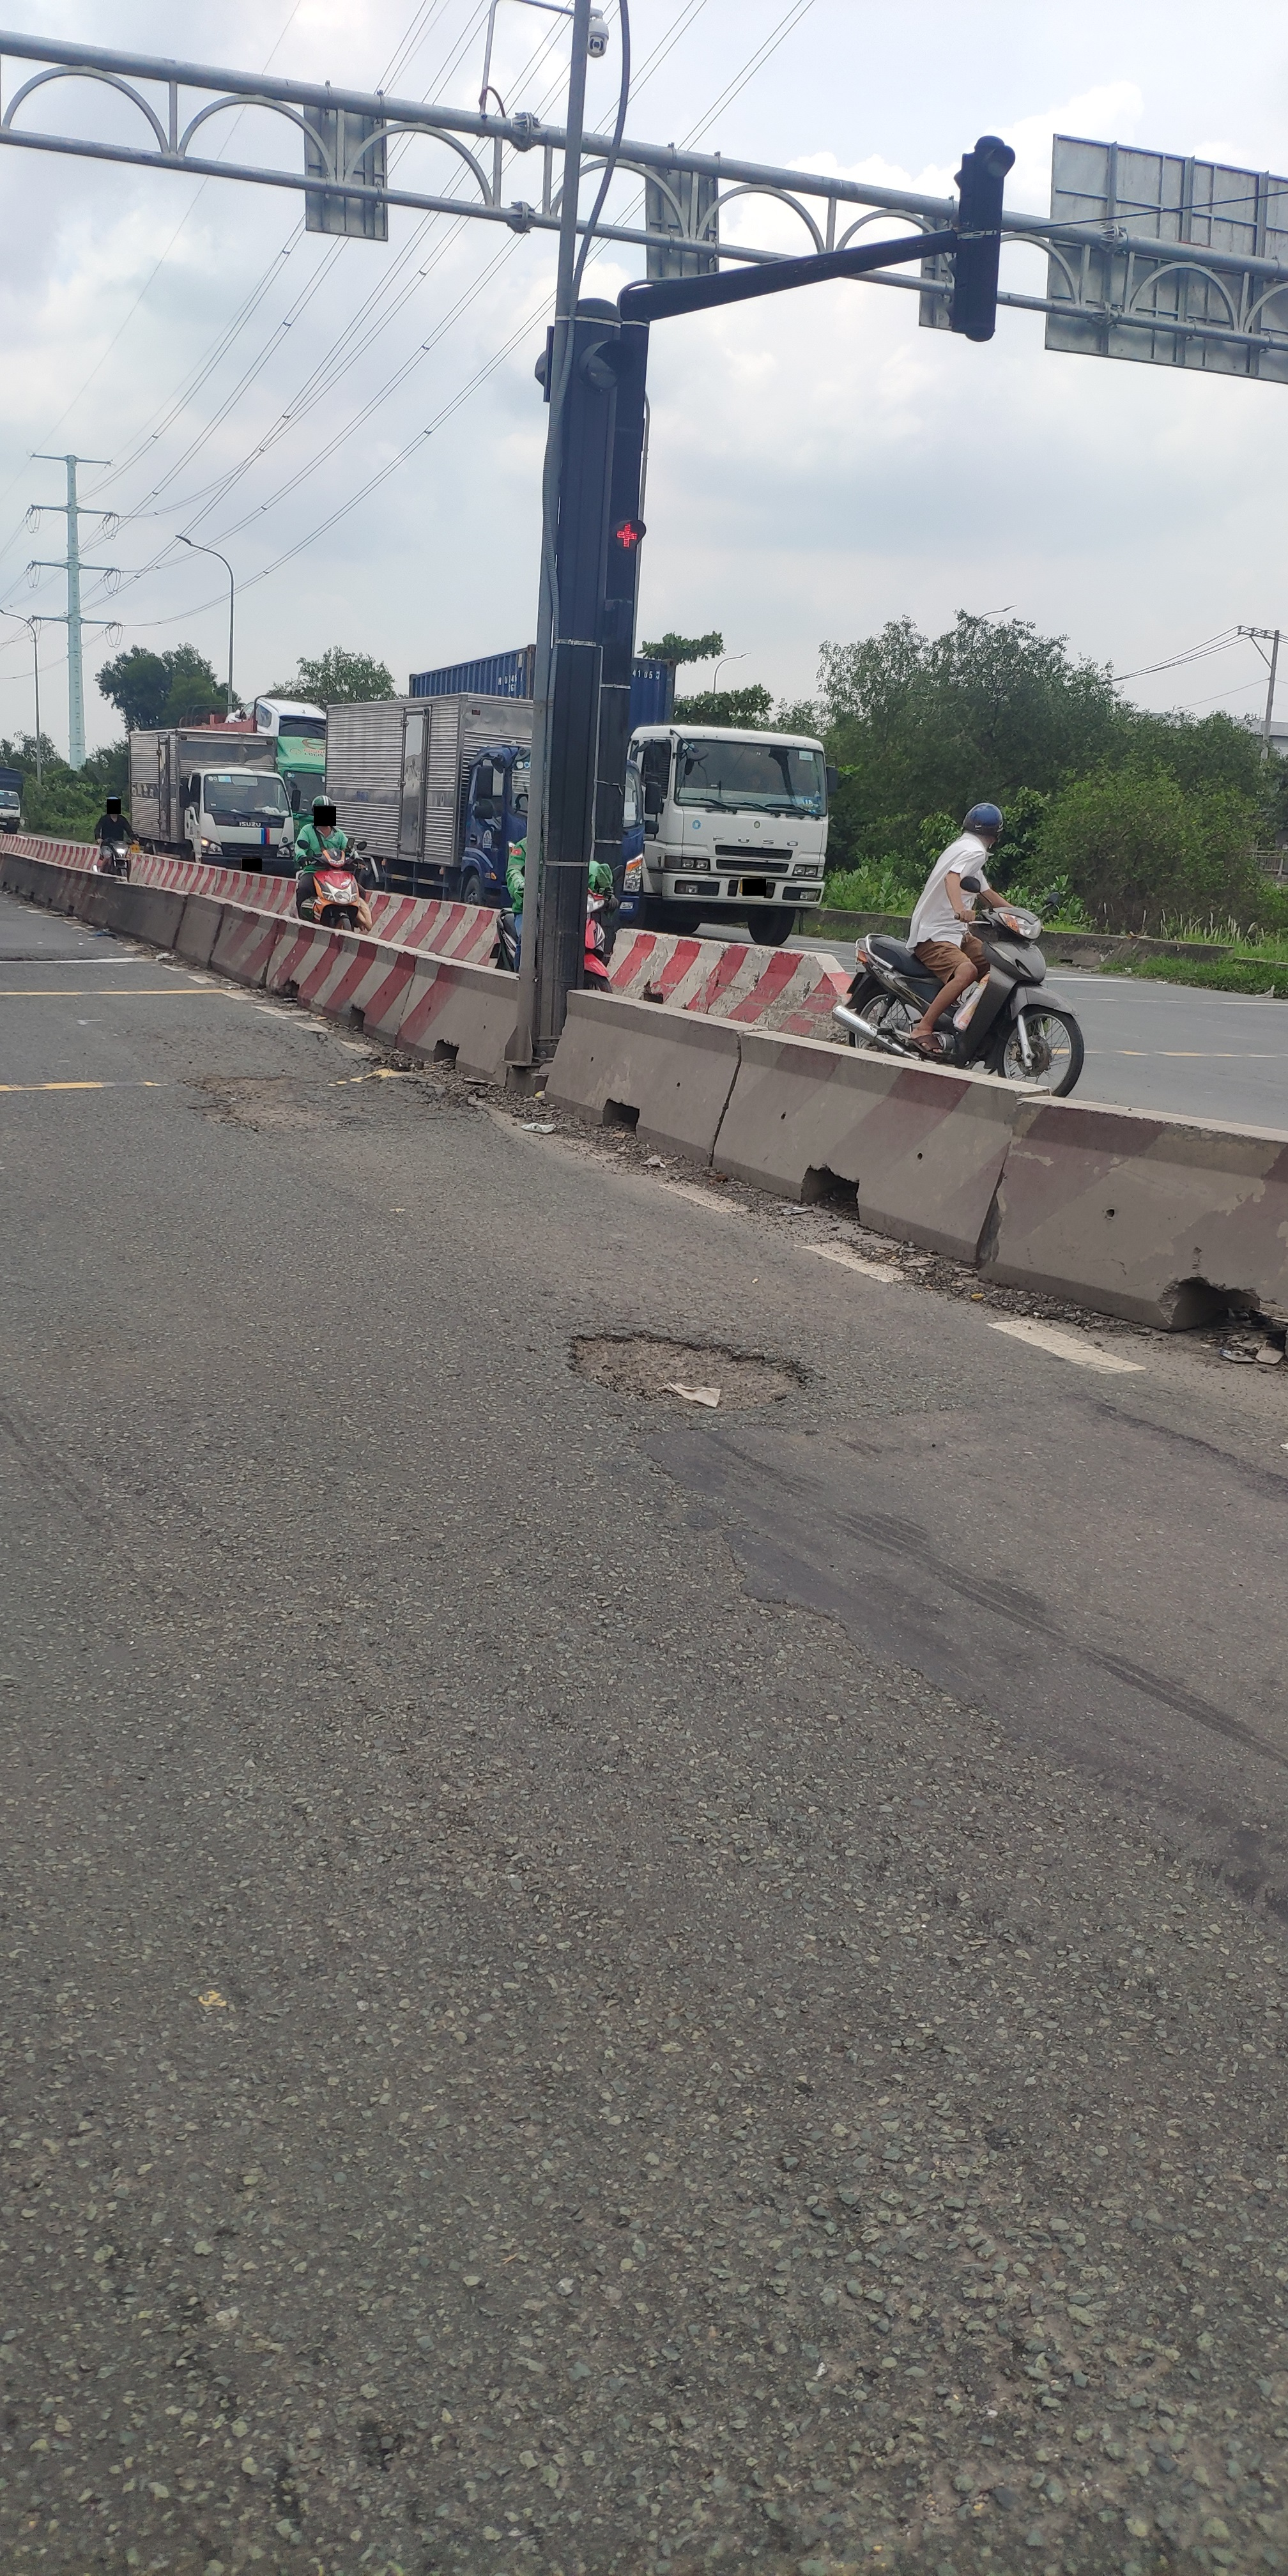hole: (554, 1319, 830, 1428), (184, 1068, 378, 1143)
